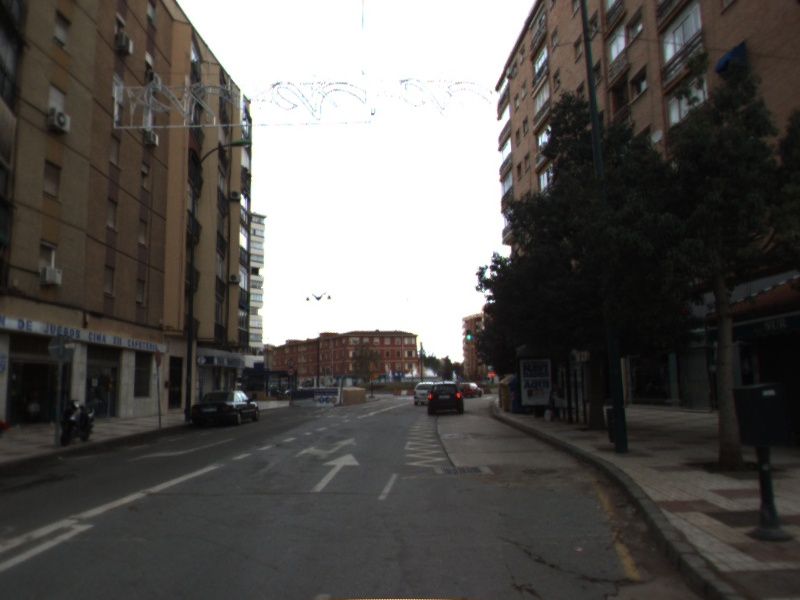STRAIGHT: (307, 451, 362, 494)
STRAIGHT_LEFT: (292, 435, 360, 461)
